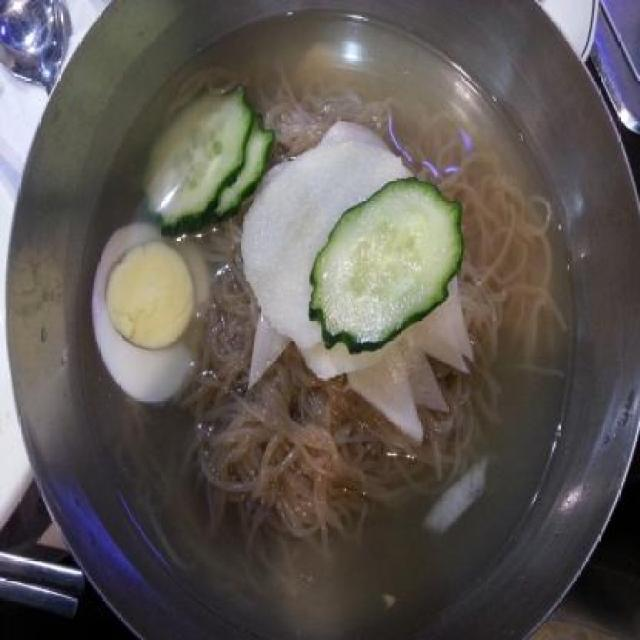Cucumber: (306, 163, 460, 352), (137, 82, 257, 220), (183, 113, 277, 225)
